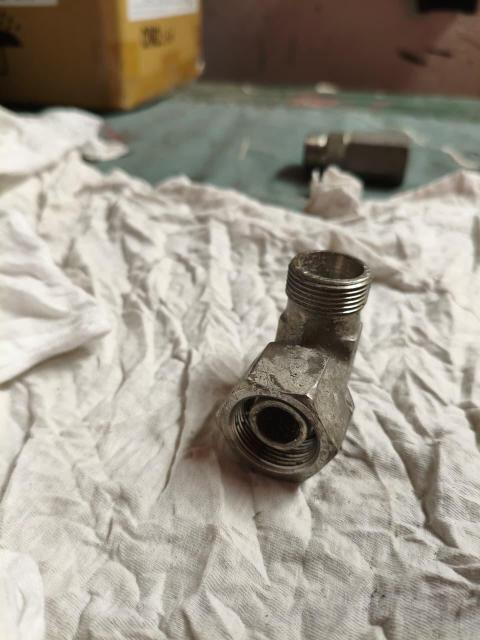Metal: (220, 250, 375, 472)
